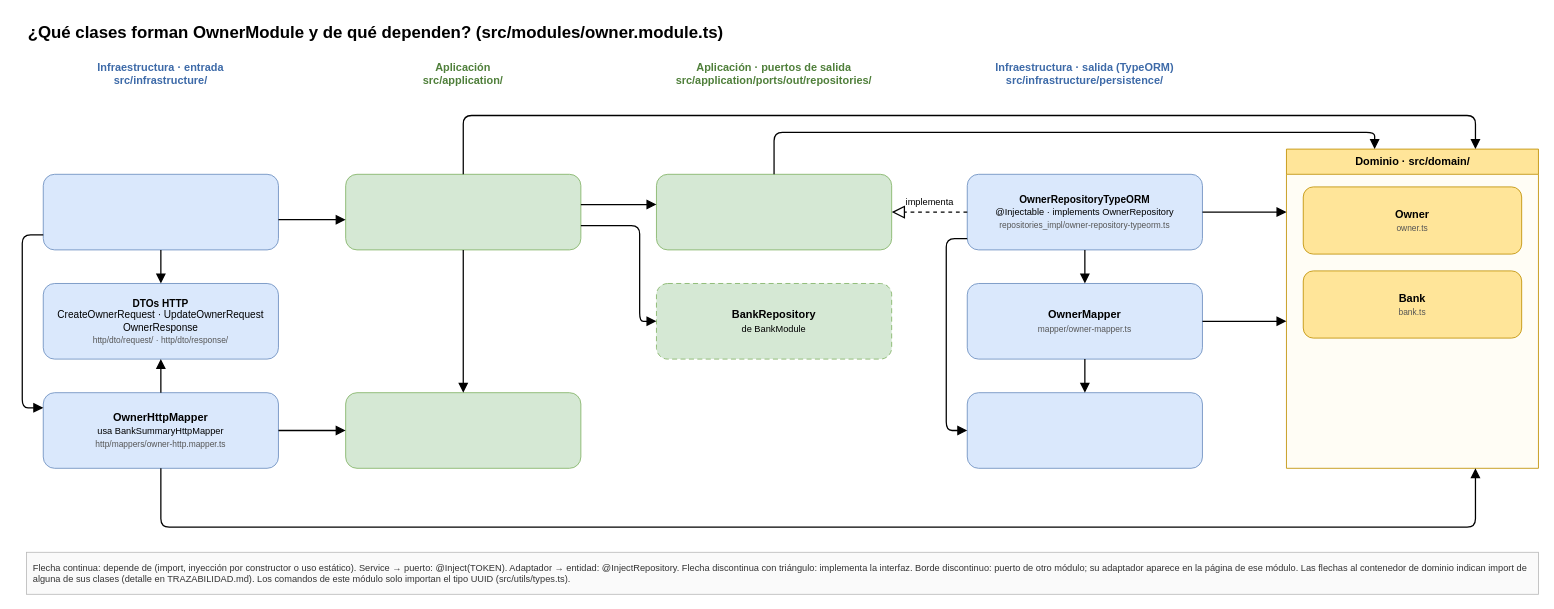
This 1554x609 diagram has some shape labels left out. Each missing label, with the centre of its shape:
"CreateOwnerCommand · UpdateOwnerCommand commands/" goes at pixel 463 430.
"OwnerController http/controllers/owner.controller.ts" goes at pixel 160 211.
"OwnerEntity @Entity TypeORM entities/*.entity.ts" goes at pixel 1084 430.
"OwnerRepository token OWNER_REPOSITORY owner-repository.ts" goes at pixel 774 211.
"OwnerService services/owner-service.ts" goes at pixel 463 211.
